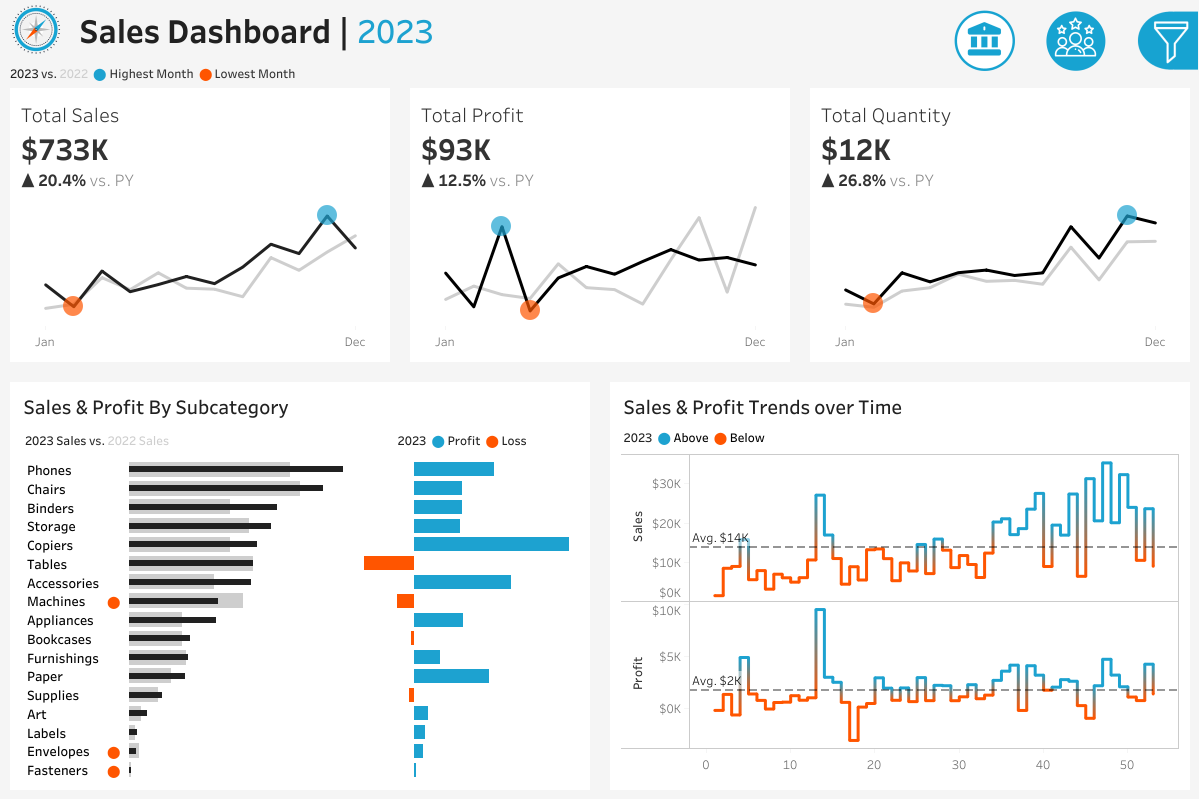

The dashboard page shown, as its layout file describes it:
{"tool":"tableau","page":{"name":"Sales Dashboard ","canvas":[1100,800],"ordinal":1},"visuals":[{"type":"text","box":[10,0,784,90]},{"type":"dashboard-object","box":[794,0,91,90]},{"type":"dashboard-object","box":[885,0,91,90]},{"type":"dashboard-object","box":[976,0,96,90]},{"type":"worksheet","title":"Legend for KPIs","mark":"Automatic","box":[0,90,1100,40]},{"type":"text","box":[893,103,200,34]},{"type":"worksheet","title":"KPI SALES ","mark":"Automatic","rows":["Calculation_1072138209239015429"],"cols":["Order Date"],"box":[0,130,367,248]},{"type":"worksheet","title":"KPI QUANTITY ","mark":"Automatic","rows":["Min/Max Sales (copy)_1072138209254715406"],"cols":["Order Date"],"box":[367,130,367,248]},{"type":"worksheet","title":"KPI Profit","mark":"Automatic","rows":["Min/Max Sales (copy)_1072138209272123415"],"cols":["Order Date"],"box":[734,130,366,248]},{"type":"filter","title":"KPI SALES ","param":"[federated.168mnv51v2l8zh1e7sb330jpii6r].[none:Sub-Category:nk]","box":[893,137,200,52]},{"type":"filter","title":"KPI SALES ","param":"[federated.168mnv51v2l8zh1e7sb330jpii6r].[none:Category:nk]","box":[893,189,200,52]},{"type":"parameter","param":"[Parameters].[Parameter 1]","box":[893,241,200,53]},{"type":"filter","title":"KPI SALES ","param":"[federated.168mnv51v2l8zh1e7sb330jpii6r].[none:City City:nk]","box":[893,294,200,52]},{"type":"filter","title":"KPI SALES ","param":"[federated.168mnv51v2l8zh1e7sb330jpii6r].[none:State State:nk]","box":[893,346,200,52]},{"type":"text","box":[17,395,516,35]},{"type":"text","box":[567,395,516,46]},{"type":"filter","title":"KPI SALES ","param":"[federated.168mnv51v2l8zh1e7sb330jpii6r].[none:Region Region:nk]","box":[893,398,200,52]},{"type":"text","box":[17,430,516,32]},{"type":"worksheet","title":"Legend for subcategory","mark":"Automatic","box":[567,441,372,32]},{"type":"text","box":[939,441,144,32]},{"type":"filter","title":"KPI SALES ","param":"[federated.168mnv51v2l8zh1e7sb330jpii6r].[none:Country/Region Country/Region:nk]","box":[893,450,200,52]},{"type":"worksheet","title":"WeeklyTrends","mark":"Automatic","rows":["Calculation_1072138209219551232","Calculation_1072138209271509012"],"cols":["Order Date"],"box":[17,462,516,321]},{"type":"worksheet","title":"Sales and Profit by subcategory ","mark":"Bar","rows":["Sub-Category"],"cols":["CY Sales (copy)_1072138209228492803","Calculation_1072138209219551232","Calculation_1072138209271509012"],"box":[567,473,516,309.9]}]}

Visuals, with their boxes on the page's 1100x800 design canvas (x1, y1, x2, y2). These are canvas units, not pixel positions in the 1199x799 screenshot, which may show the page scaled, cropped or inside an application window:
text: select_region(10, 0, 794, 90)
dashboard-object: select_region(794, 0, 885, 90)
dashboard-object: select_region(885, 0, 976, 90)
dashboard-object: select_region(976, 0, 1072, 90)
"Legend for KPIs" worksheet: select_region(0, 90, 1100, 130)
text: select_region(893, 103, 1093, 137)
"KPI SALES " worksheet: select_region(0, 130, 367, 378)
"KPI QUANTITY " worksheet: select_region(367, 130, 734, 378)
"KPI Profit" worksheet: select_region(734, 130, 1100, 378)
"KPI SALES " filter: select_region(893, 137, 1093, 189)
"KPI SALES " filter: select_region(893, 189, 1093, 241)
parameter: select_region(893, 241, 1093, 294)
"KPI SALES " filter: select_region(893, 294, 1093, 346)
"KPI SALES " filter: select_region(893, 346, 1093, 398)
text: select_region(17, 395, 533, 430)
text: select_region(567, 395, 1083, 441)
"KPI SALES " filter: select_region(893, 398, 1093, 450)
text: select_region(17, 430, 533, 462)
"Legend for subcategory" worksheet: select_region(567, 441, 939, 473)
text: select_region(939, 441, 1083, 473)
"KPI SALES " filter: select_region(893, 450, 1093, 502)
"WeeklyTrends" worksheet: select_region(17, 462, 533, 783)
"Sales and Profit by subcategory " worksheet (Bar marks): select_region(567, 473, 1083, 783)
